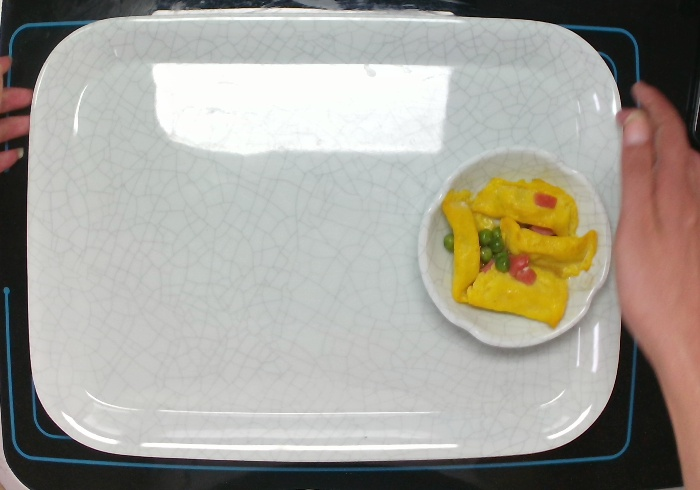JYsf-Ao_Yuan_Wan: (414, 143, 614, 351)
